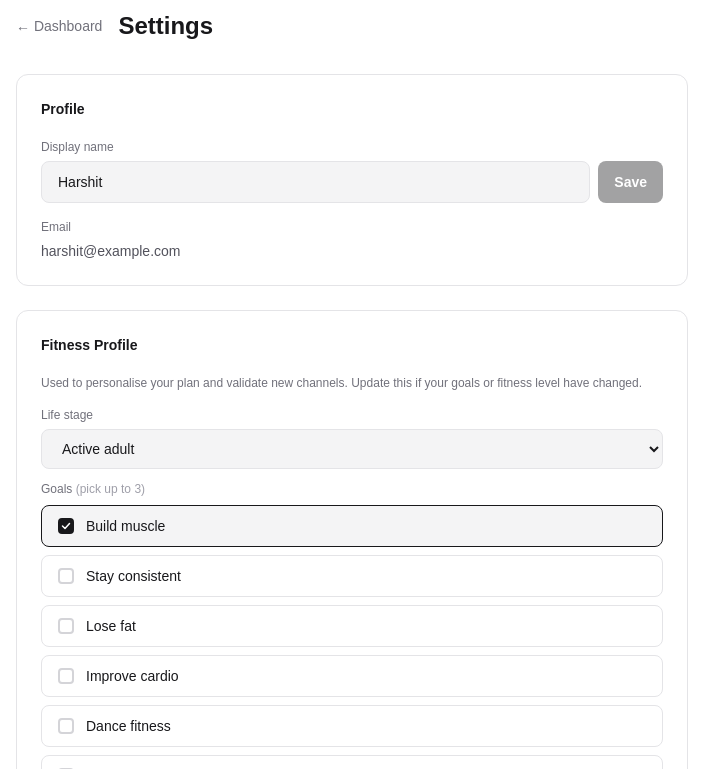
Test: SettingsPage - display name › Save button enables when name is changed
Replace the text in the field showing "Harshit" with "Harshit S" at [316, 182], box [41, 161, 590, 203]
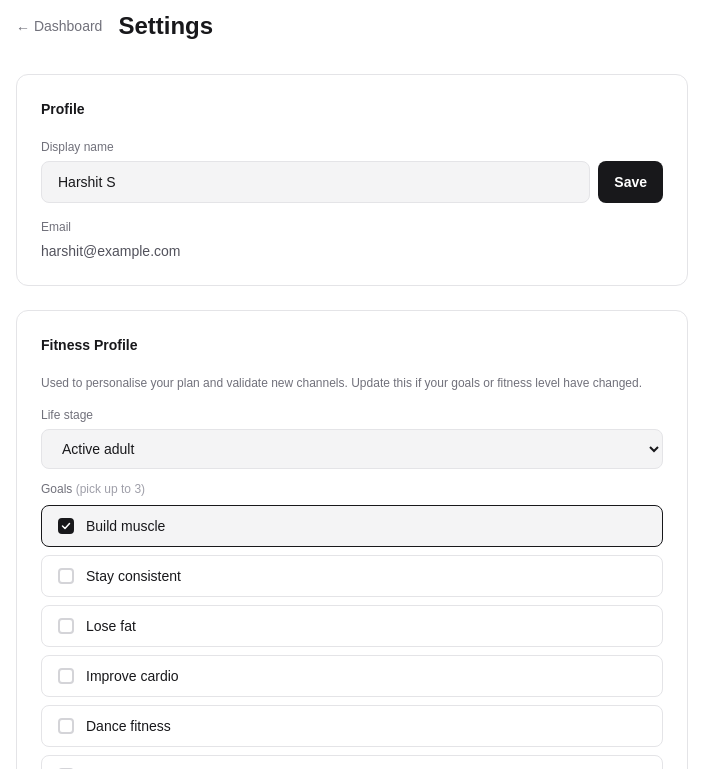
Result: the button "Save" is enabled at [598, 161, 663, 203]
